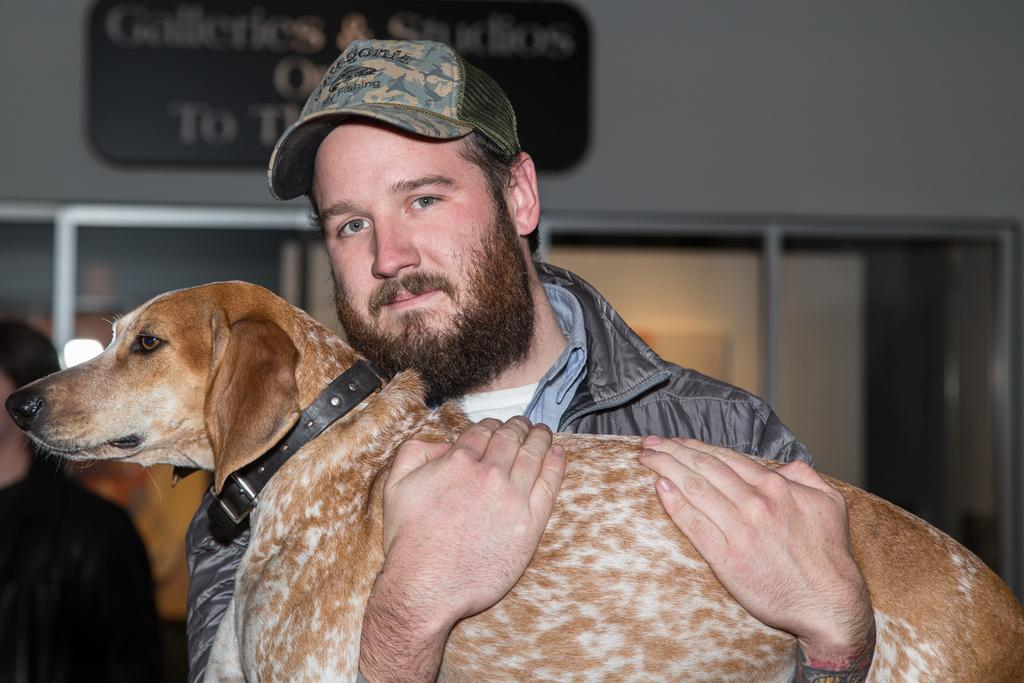Hat: (268, 41, 520, 204)
